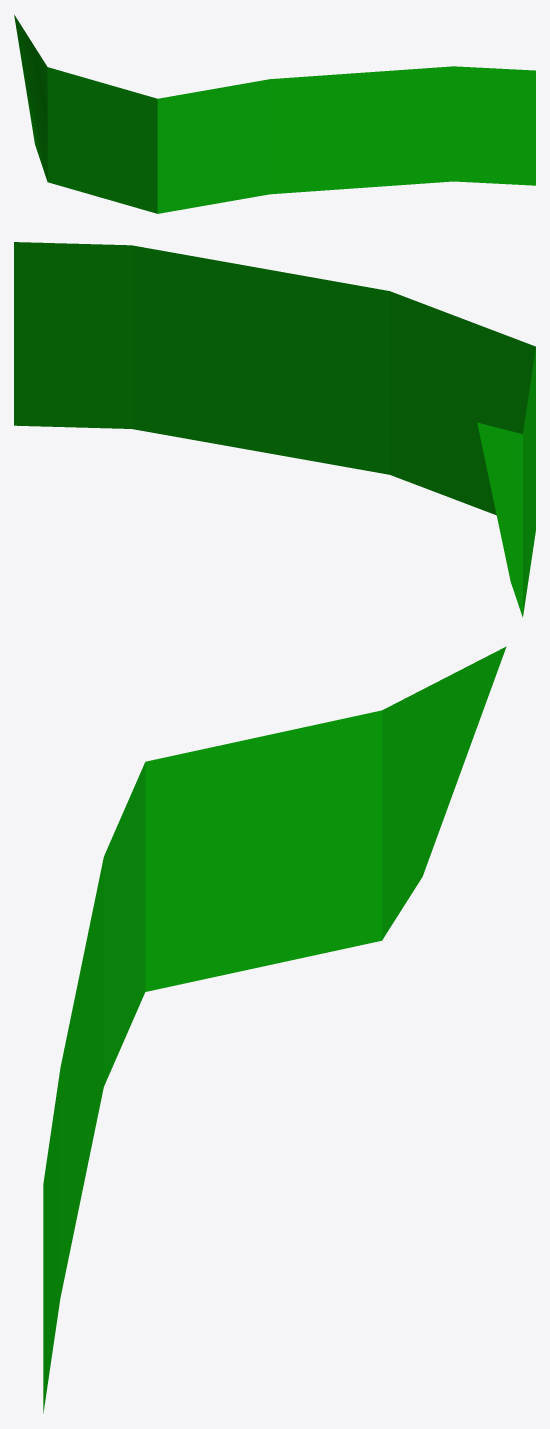
Rendered from M8_Idiot_Stopper_01.glb.
The picture shows the model from 3 angles, top to bottom: view 1: azimuth 30°, elevation 25°; view 2: azimuth 150°, elevation 25°; view 3: azimuth 270°, elevation 25°; orthographic projection. The views are drawn at different scales.
Parts seen in each view (by area): view 1: M8_IDIOT_STOPPER_01; view 2: M8_IDIOT_STOPPER_01; view 3: M8_IDIOT_STOPPER_01.
Part boxes in pixels (x1,y1,x2,y2): M8_IDIOT_STOPPER_01: (14, 14, 535, 213); M8_IDIOT_STOPPER_01: (14, 242, 535, 617); M8_IDIOT_STOPPER_01: (43, 646, 506, 1413).
Bounding box in the file's own units: 27.68 × 12.11 × 13.67.
